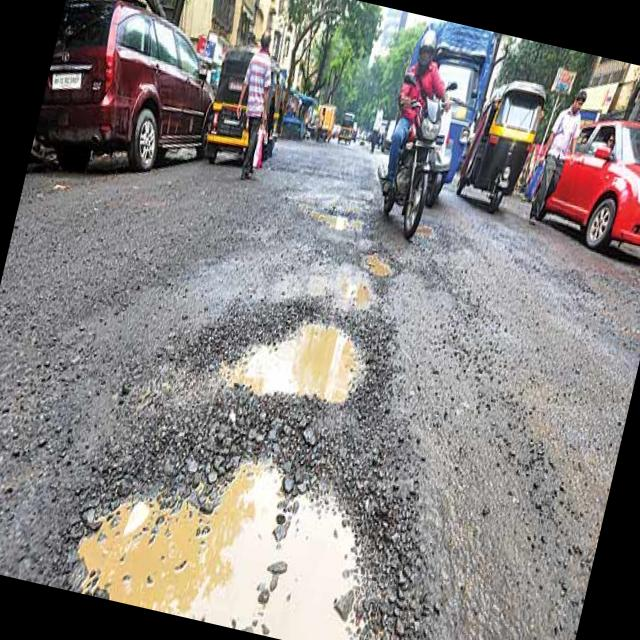Potholes: (62, 374, 452, 640), (208, 284, 403, 432), (290, 179, 386, 256), (349, 235, 405, 291)
